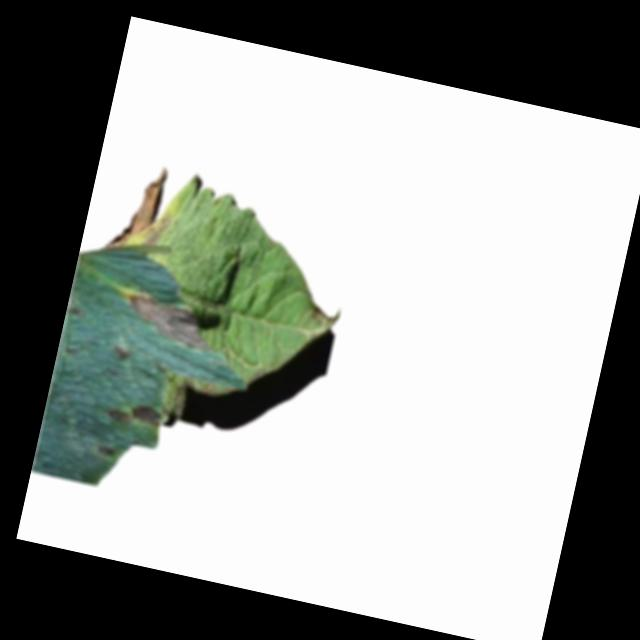Early_blight: (104, 159, 179, 263), (119, 289, 218, 355), (105, 398, 165, 430), (111, 343, 131, 362)
